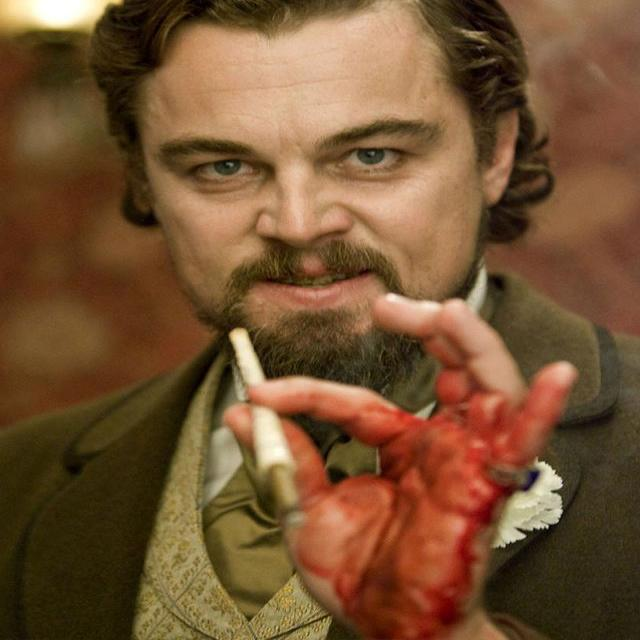flood: (402, 407, 478, 612)
